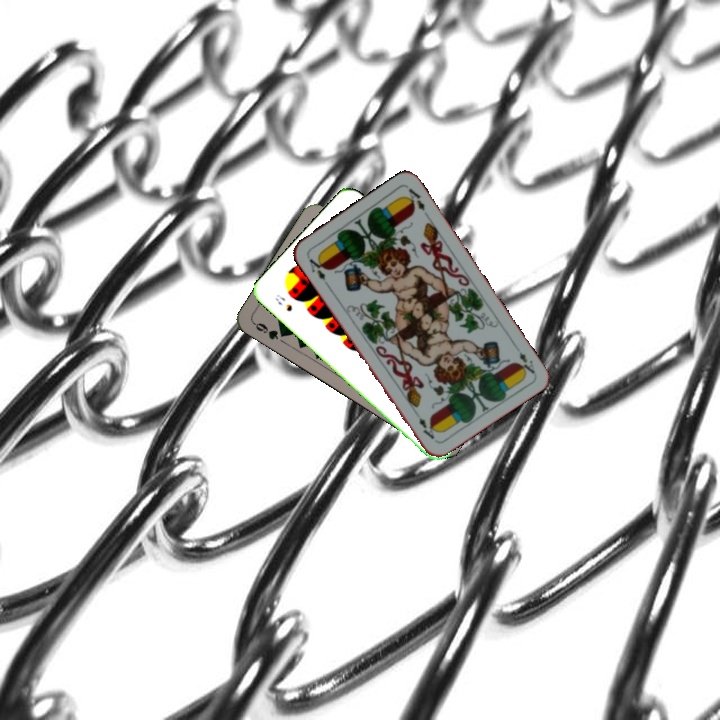EA: (510, 341, 537, 377), (303, 252, 329, 283)
G9: (249, 318, 289, 342)
S8: (271, 290, 295, 314)
